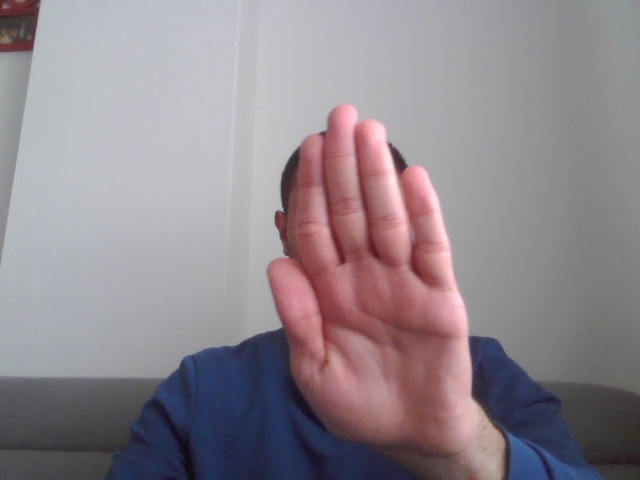Hello: (266, 104, 510, 460)
